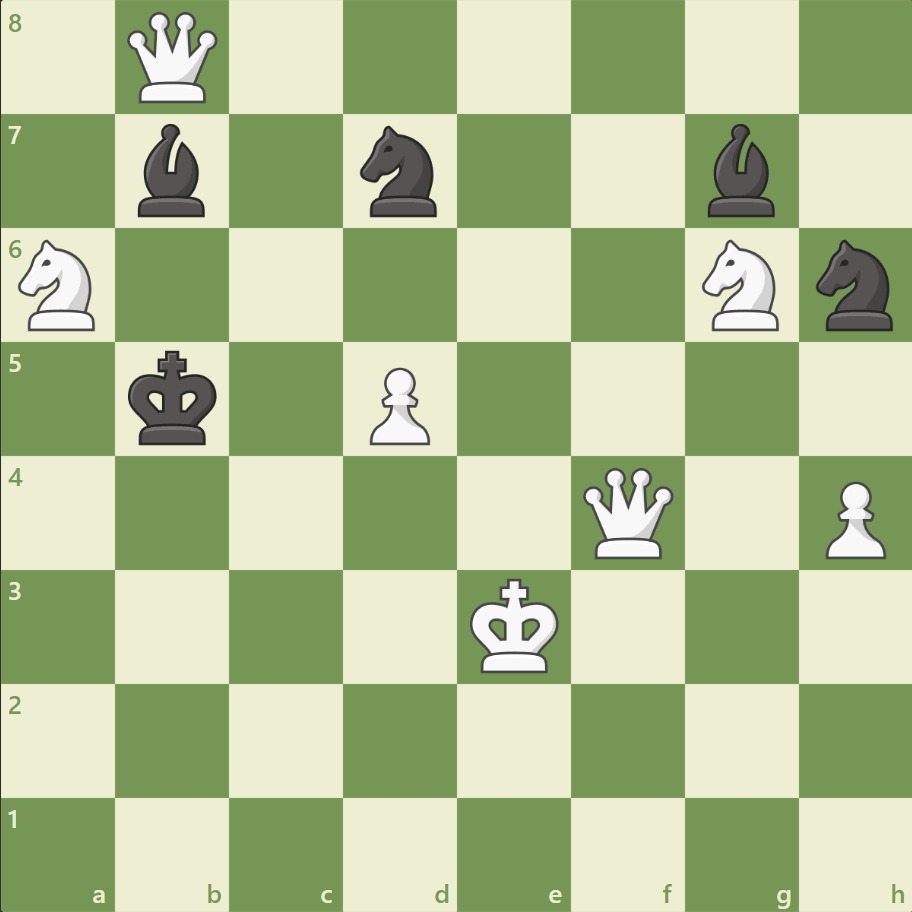K: (465, 571, 565, 679)
N: (11, 234, 108, 337), (692, 234, 789, 337)
P: (361, 359, 435, 450), (815, 473, 889, 564)
Q: (124, 9, 223, 108), (578, 463, 677, 562)
b: (131, 120, 215, 222), (698, 120, 782, 222)
k: (124, 344, 224, 452)
n: (351, 121, 449, 223), (806, 234, 903, 337)
